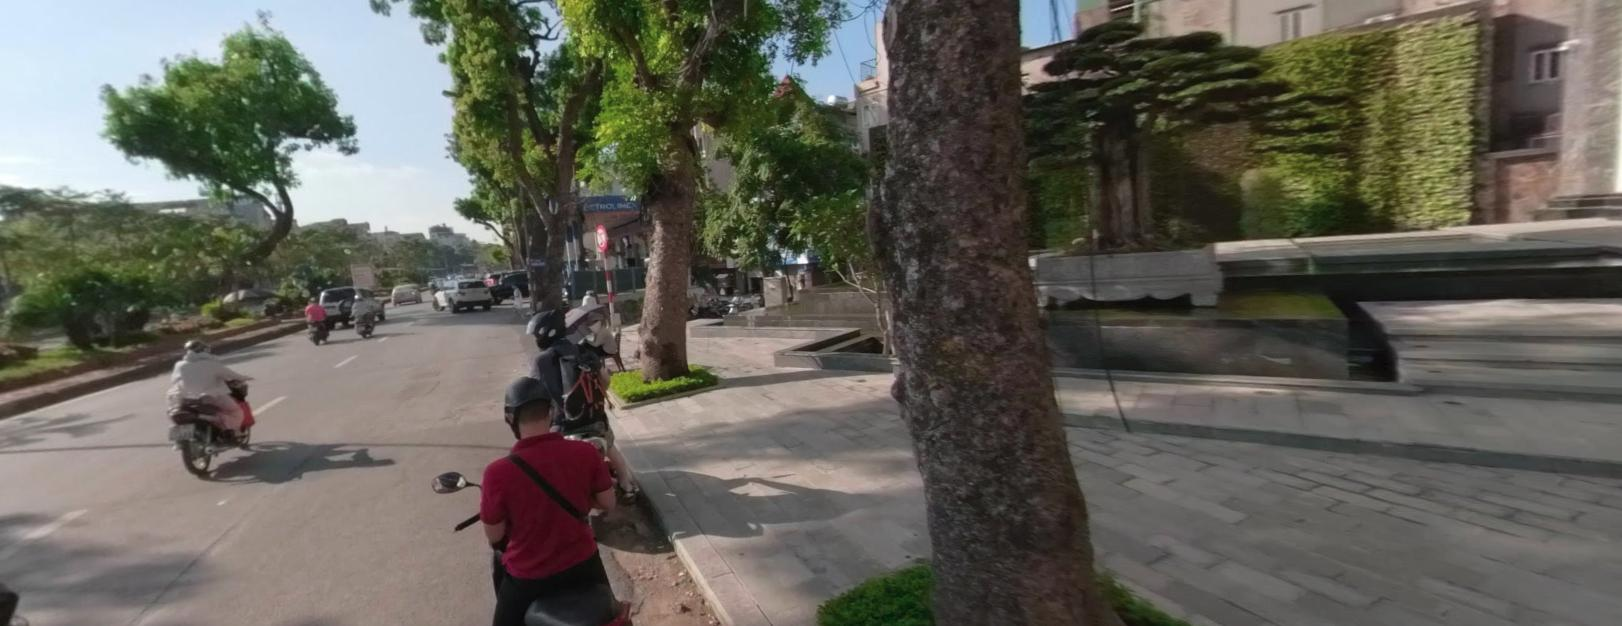Cam con lai: (596, 223, 607, 249)
